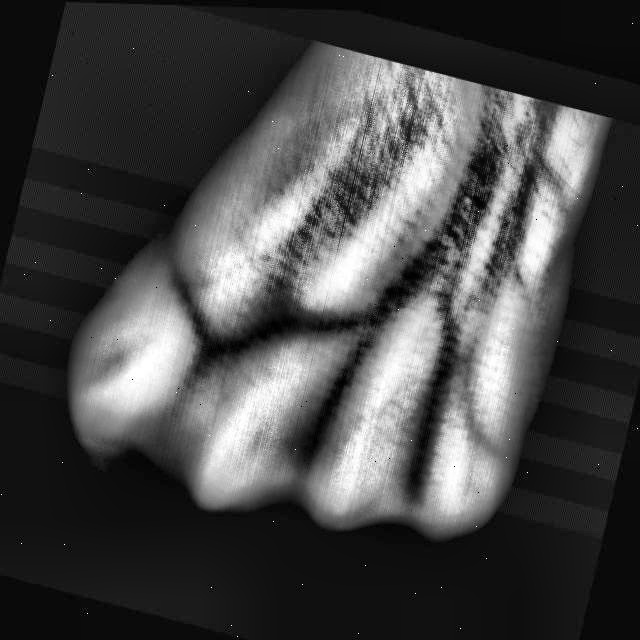Vein: (383, 106, 508, 311)
